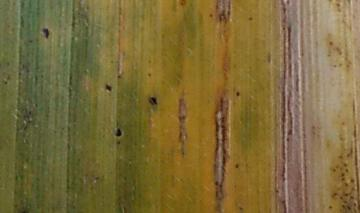tarspot: (40, 26, 51, 40), (146, 95, 158, 107), (114, 127, 122, 139), (104, 83, 113, 92), (232, 162, 241, 170), (233, 90, 241, 98), (208, 11, 214, 20), (213, 179, 219, 187), (247, 15, 253, 22), (146, 71, 152, 77), (115, 74, 121, 80)
